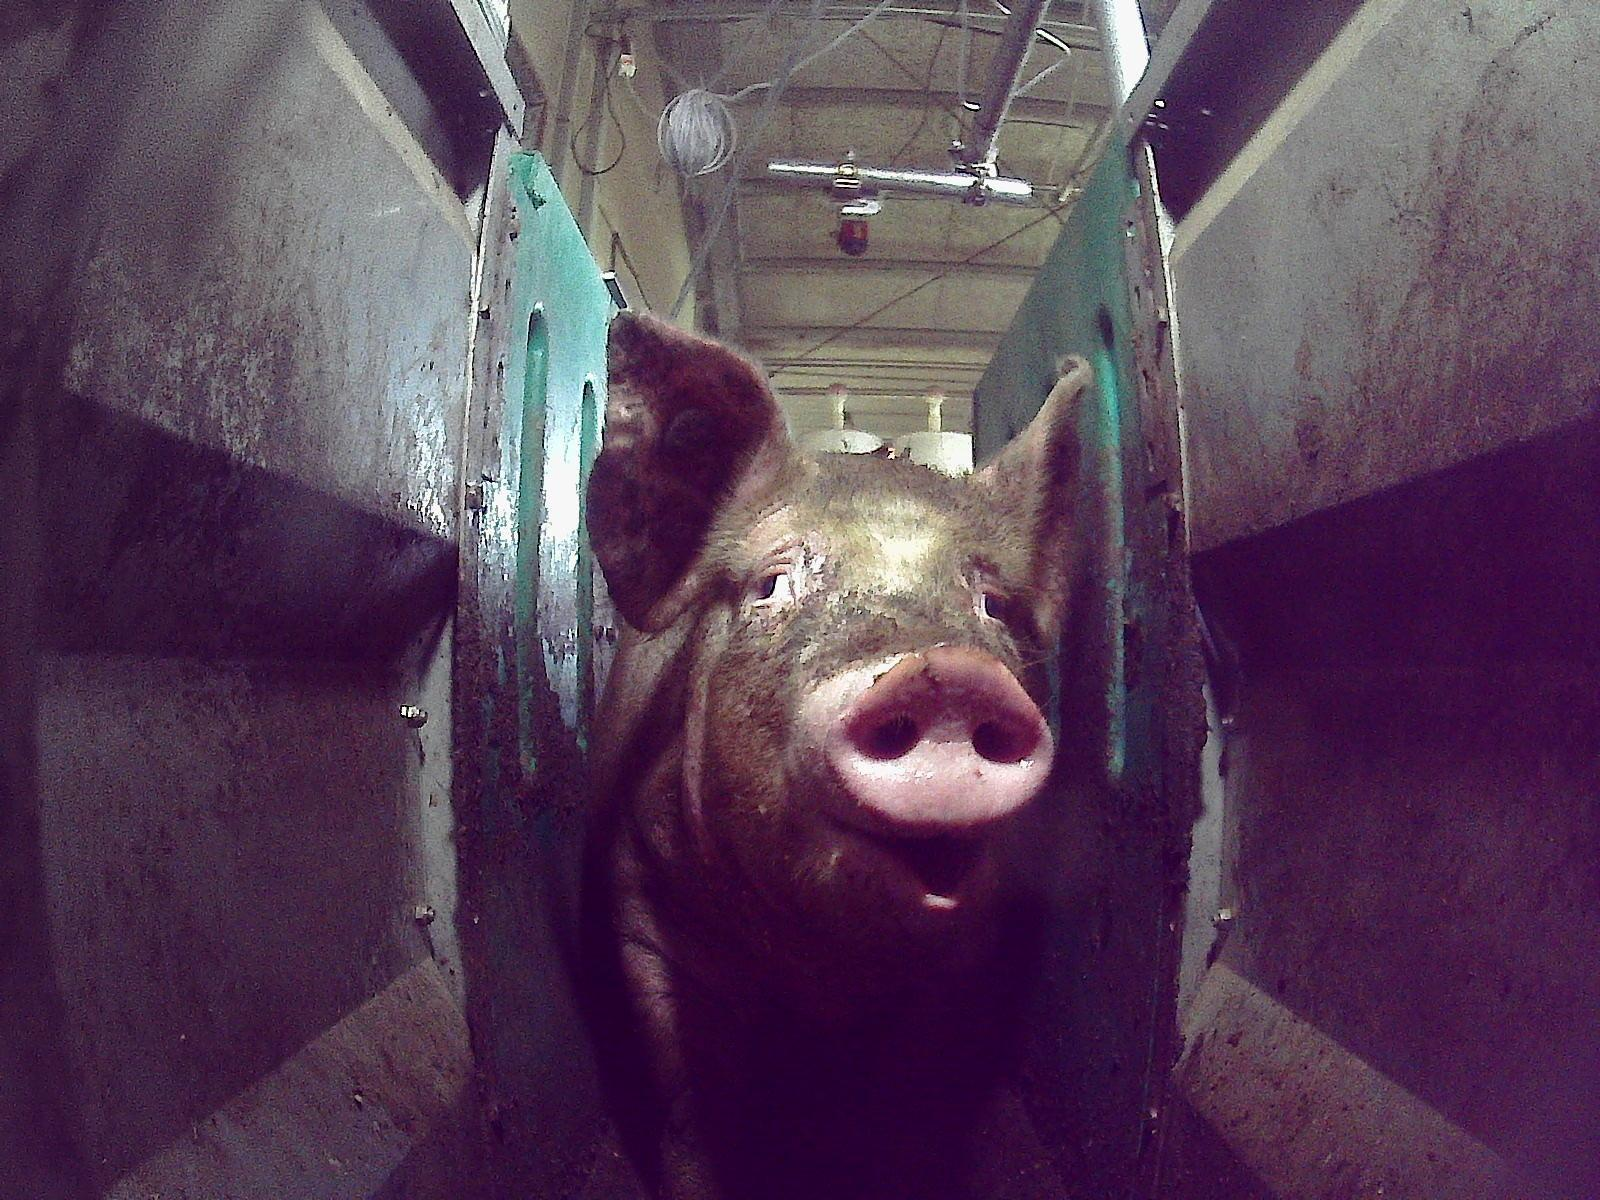Face: (667, 448, 1055, 954)
